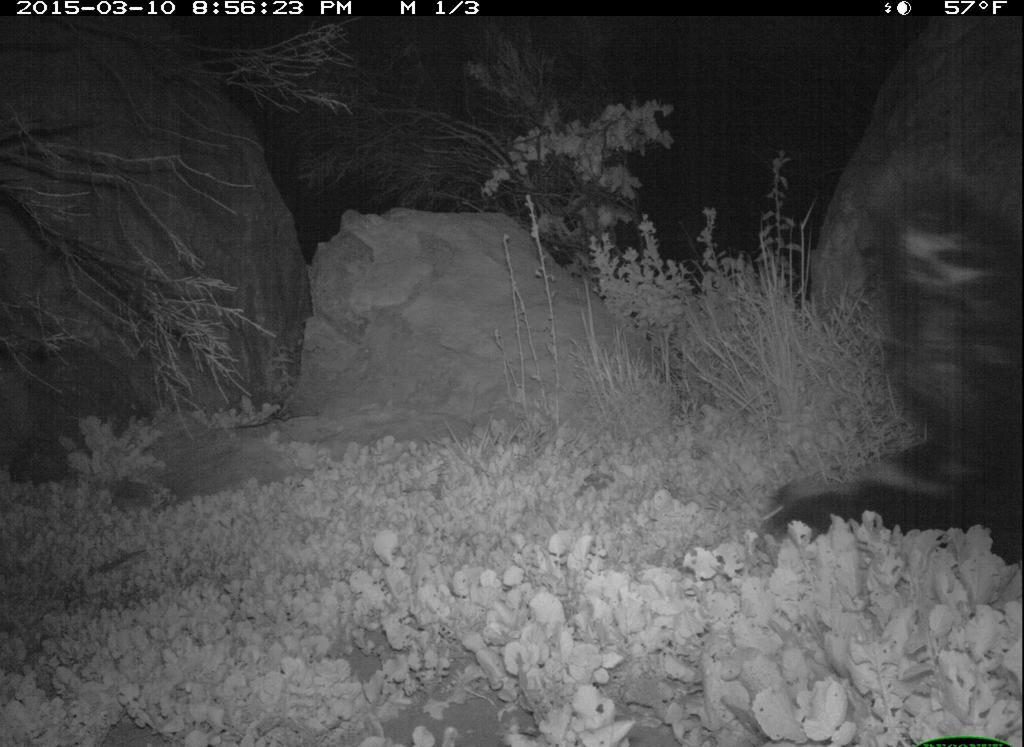skunk: (762, 190, 1010, 571)
